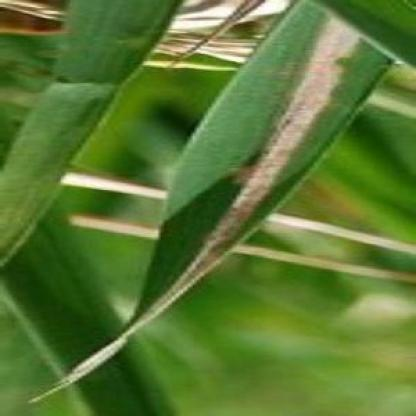Blight: (148, 8, 360, 319)
